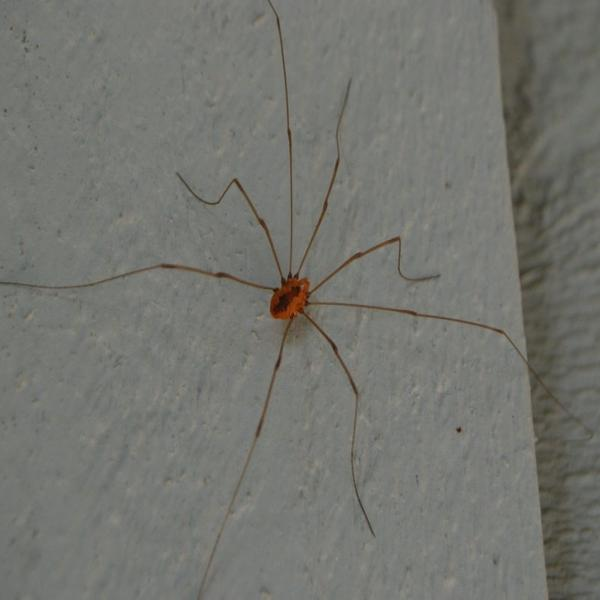Daddy Long Legs Spider: (20, 9, 572, 556)
